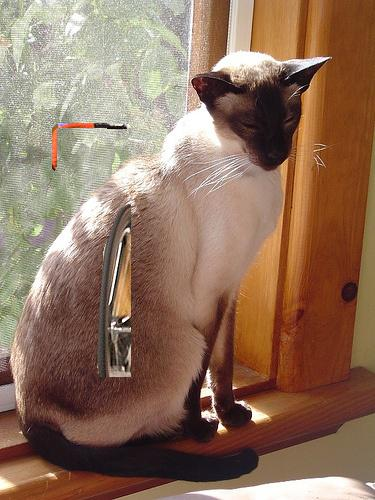tampered: (53, 124, 131, 377)
